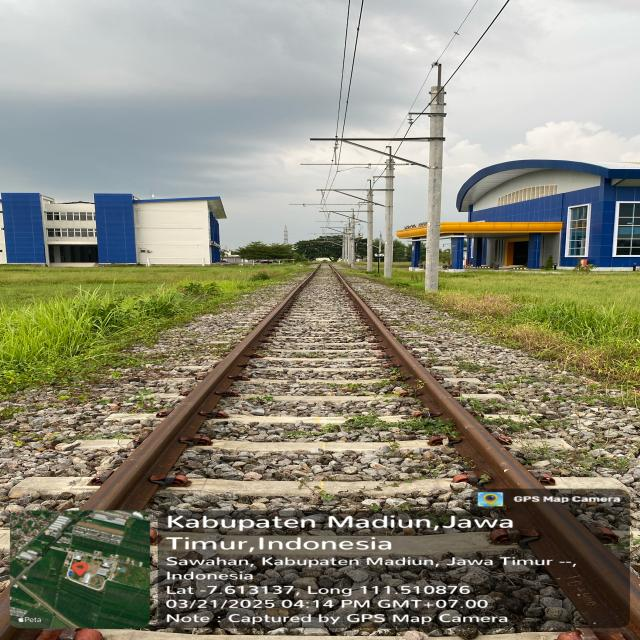rail-detection: (330, 264, 640, 631), (81, 264, 320, 510)
